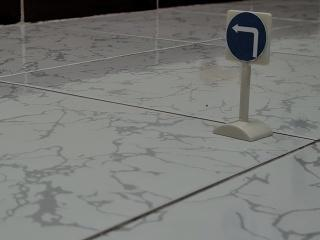left: (216, 10, 284, 66)
